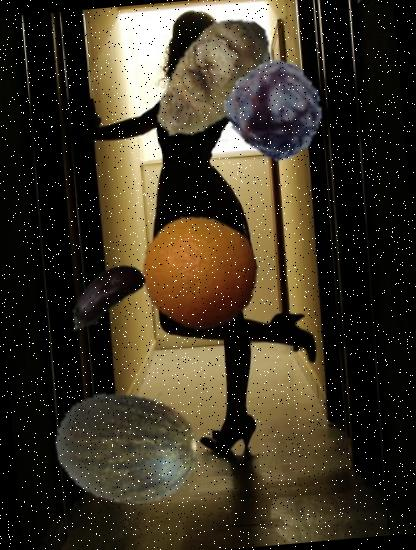Dates: (225, 56, 330, 162)
Eggplant: (53, 245, 154, 346)
Ginger: (140, 6, 294, 160)
Melon: (52, 368, 206, 522)
Orange: (137, 209, 264, 336)
